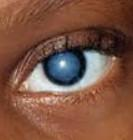eye: (43, 49, 88, 86)
